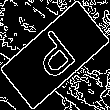P_SE: (26, 24, 84, 86)
